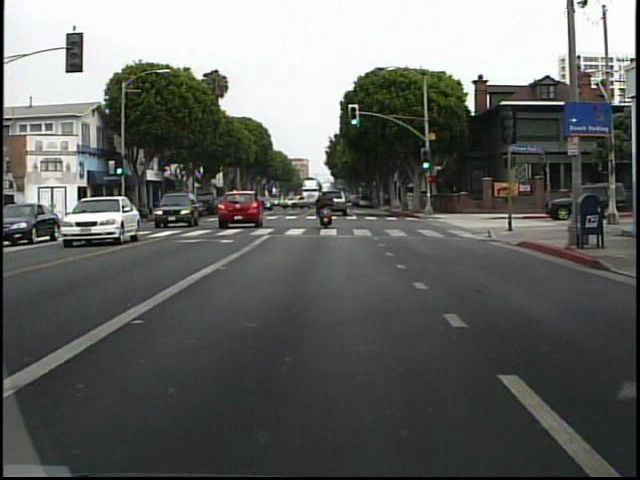person: (313, 185, 342, 233)
